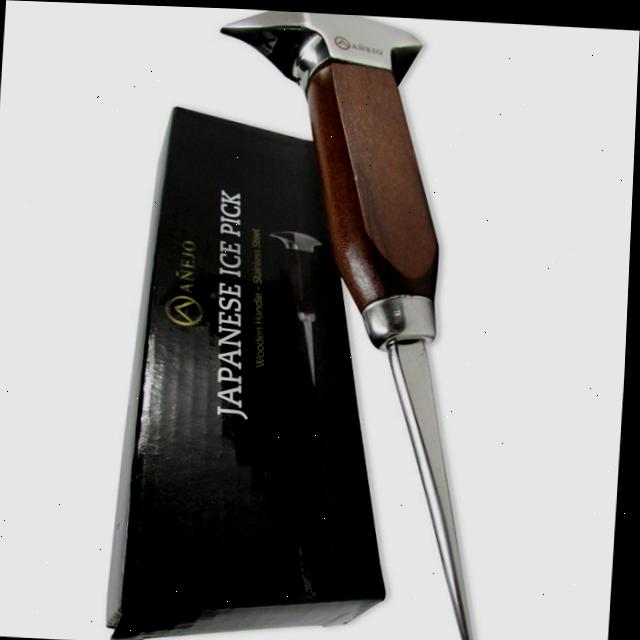ice pick: (184, 6, 520, 640), (261, 224, 327, 380)
